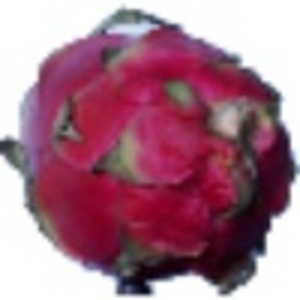pitaia: (1, 6, 300, 299)
